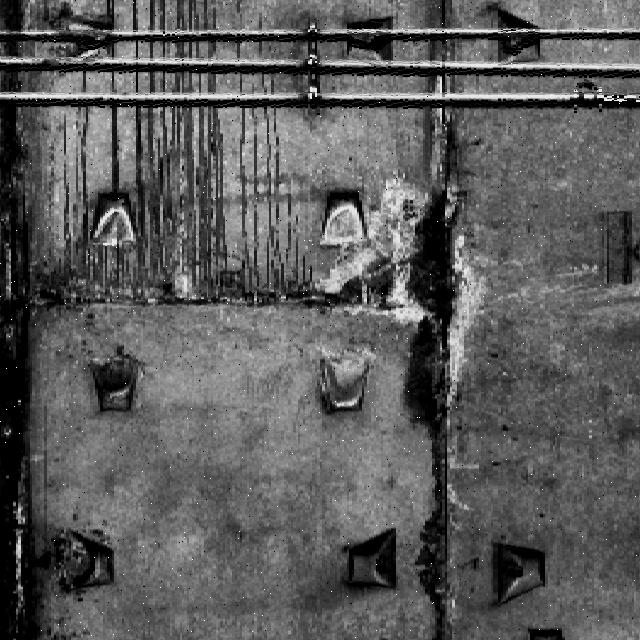leakage: (309, 104, 493, 640), (60, 1, 298, 316), (1, 1, 58, 639)
